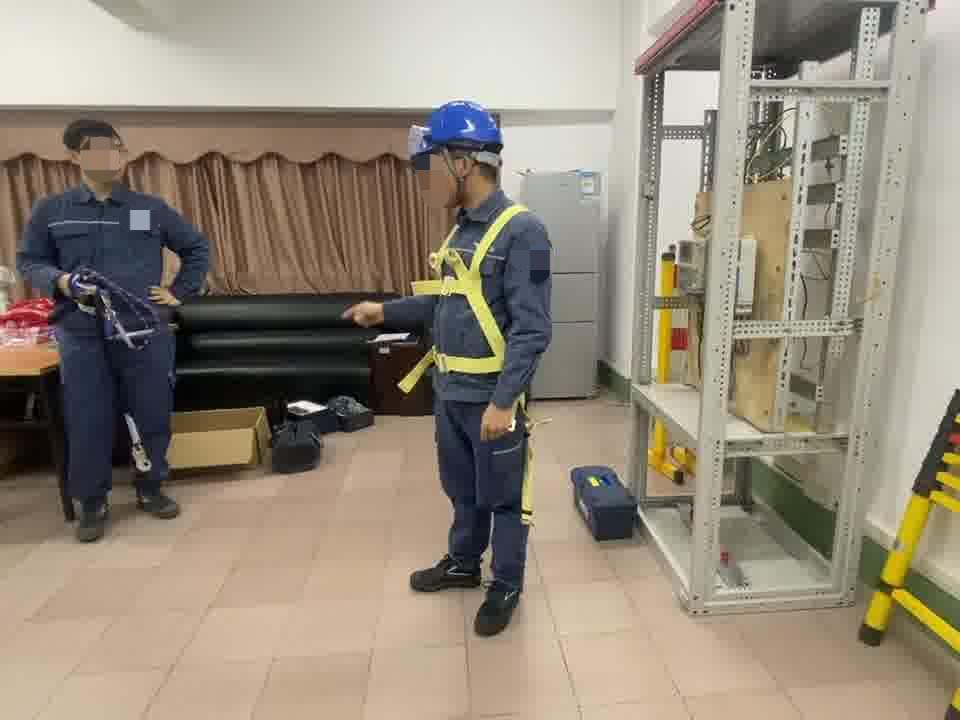halt: (414, 103, 509, 205)
inear: (443, 148, 485, 191)
noear: (66, 152, 95, 180)
unhalt: (65, 117, 130, 194)
